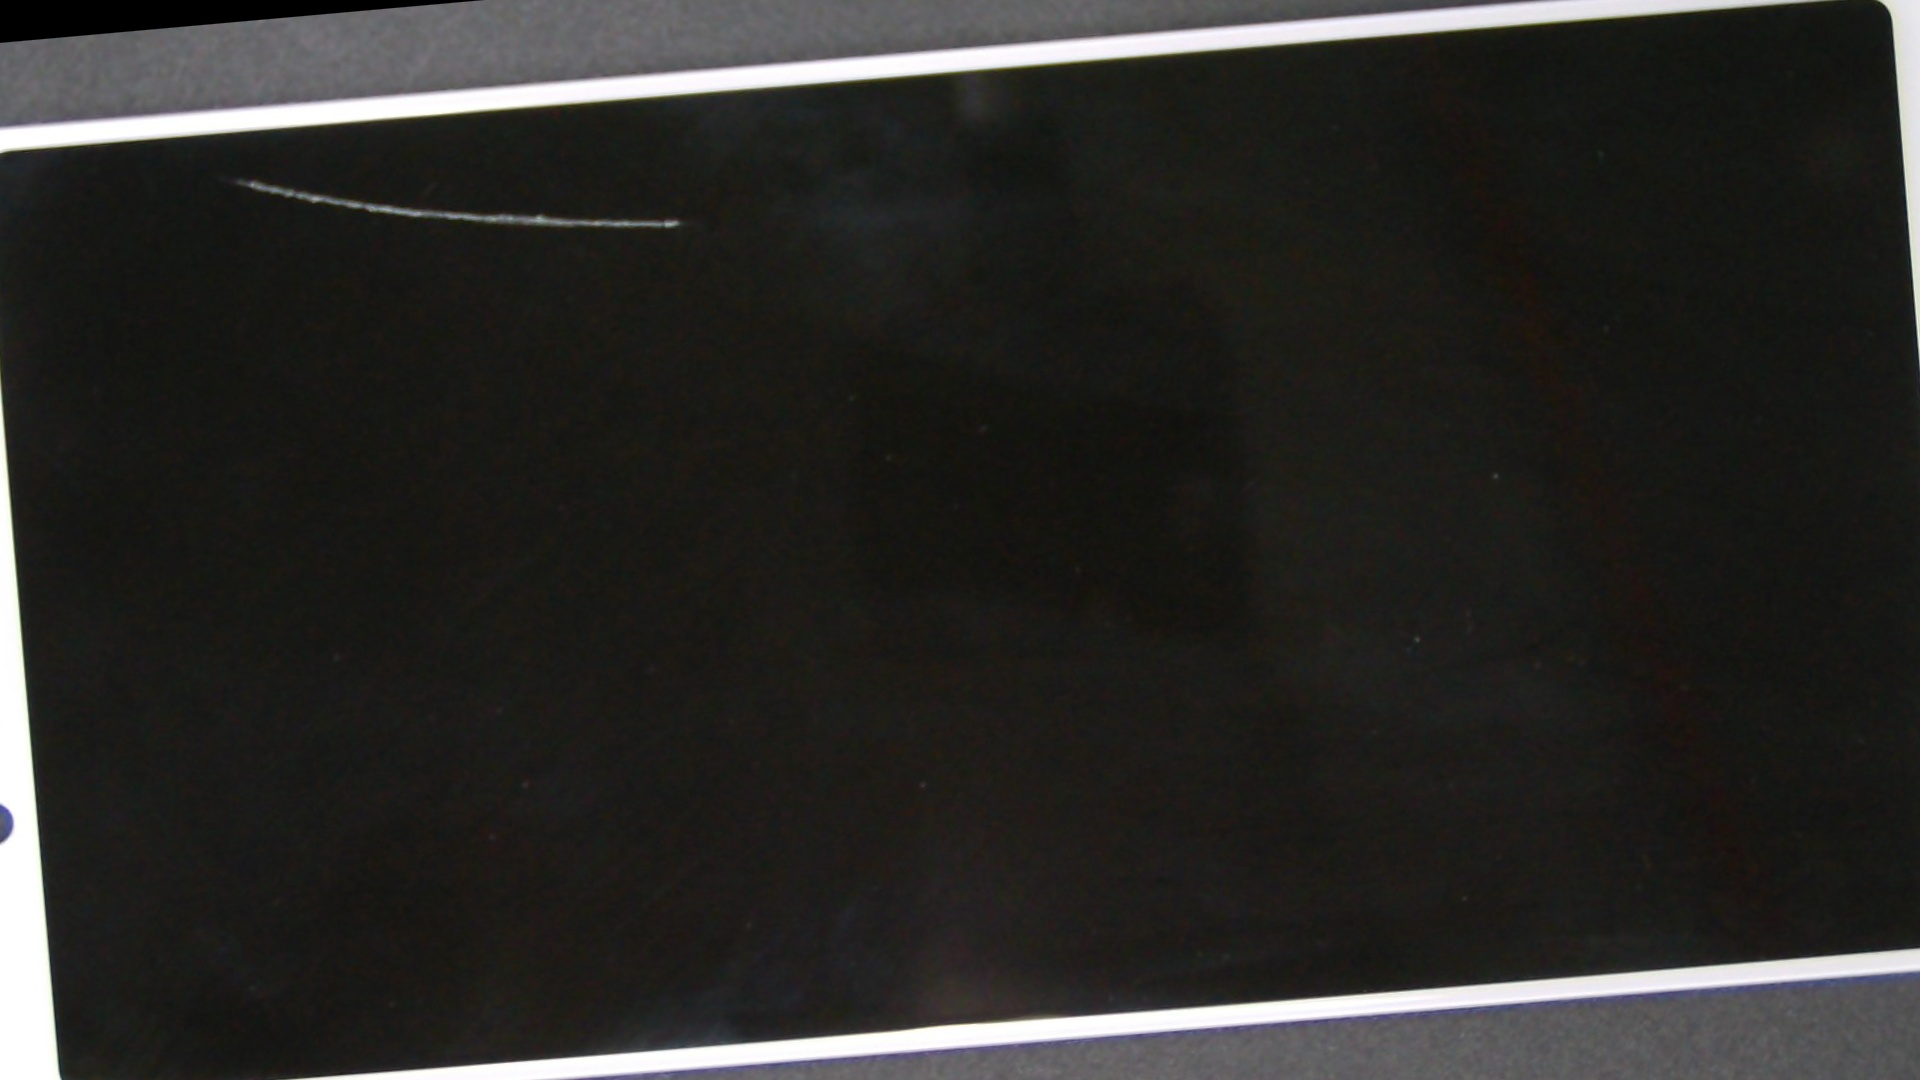oil: (24, 82, 452, 277)
